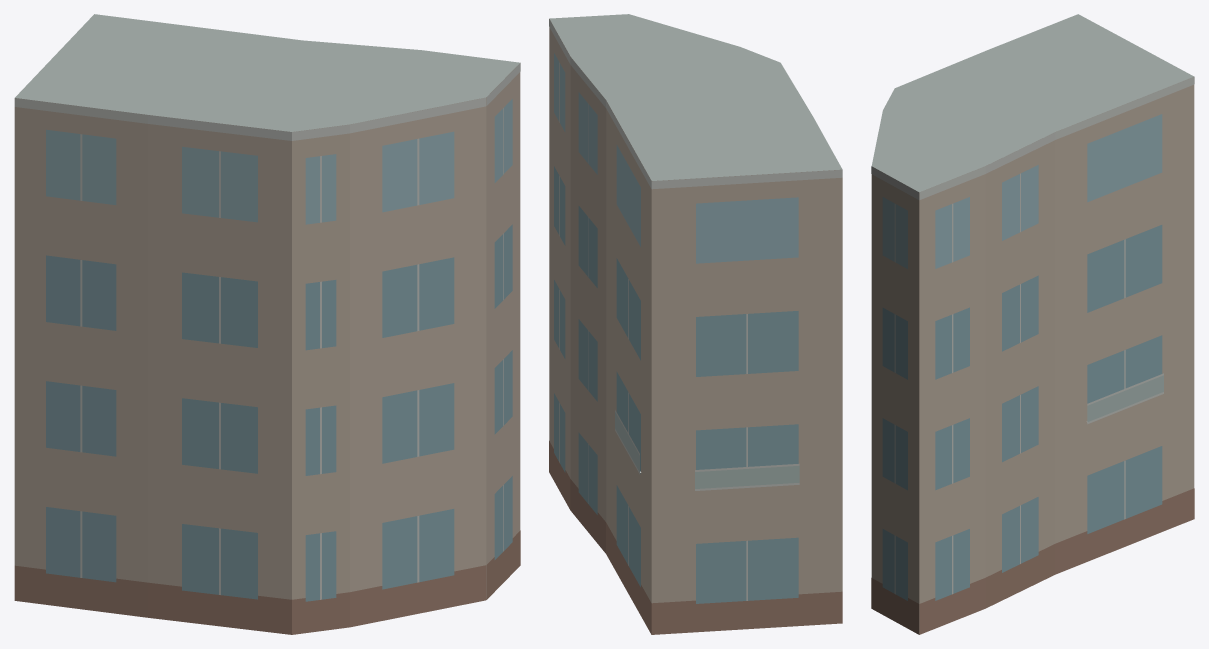
The model's file is survey-upis-32985810.glb.
3 renders of one model, left to right at view 1: azimuth 30°, elevation 25°; view 2: azimuth 150°, elevation 25°; view 3: azimuth 270°, elevation 25°, orthographic. The views are drawn at different scales.
Visible parts, largest first — view 1: survey-upis-32985810.tmp; view 2: survey-upis-32985810.tmp; view 3: survey-upis-32985810.tmp.
Boxes of the visible parts, x1=… form: survey-upis-32985810.tmp: x1=14, y1=14, x2=520, y2=634; survey-upis-32985810.tmp: x1=549, y1=14, x2=842, y2=634; survey-upis-32985810.tmp: x1=871, y1=14, x2=1194, y2=634.
Size of the model in its own units: 11.76 by 13.6 by 9.
